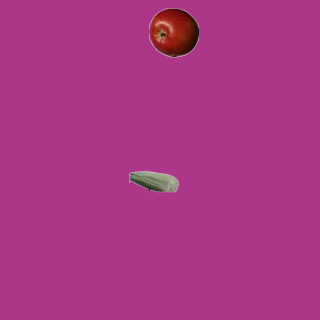Apple Braeburn: (148, 7, 198, 57)
Corn Husk: (128, 156, 178, 206)
